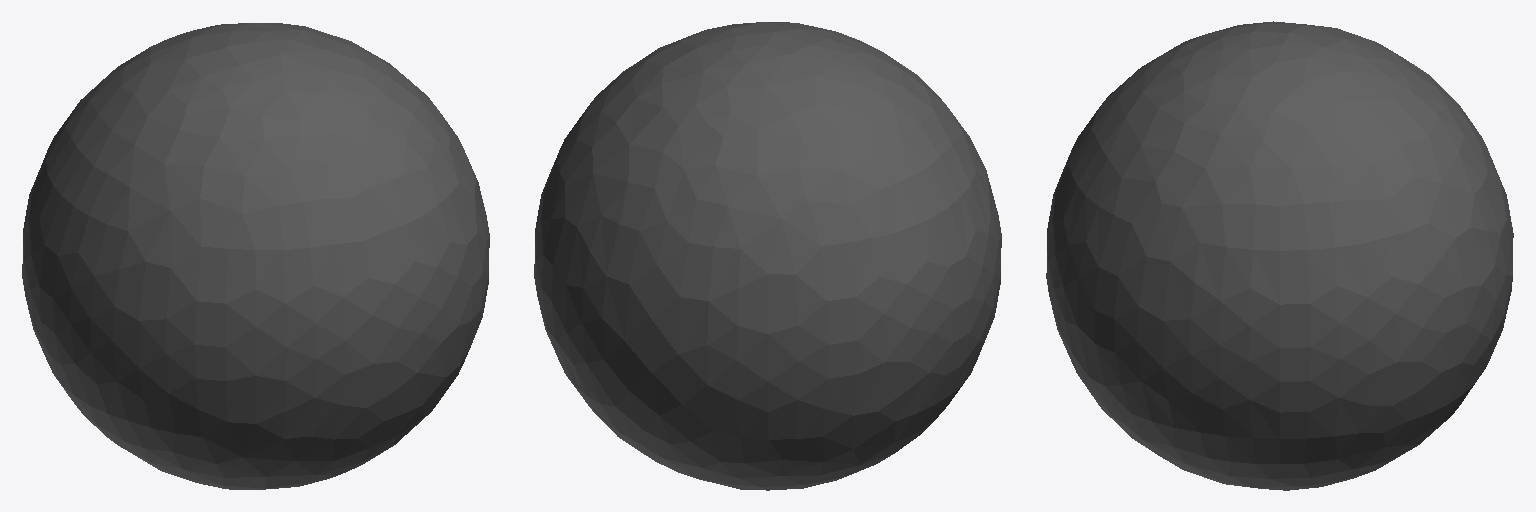
The model's file is sun.obj.
3 views of the same model, side by side, from view 1: azimuth 30°, elevation 25°; view 2: azimuth 150°, elevation 25°; view 3: azimuth 270°, elevation 25° (orthographic).
Parts seen in each view (by area): view 1: single_mesh_object; view 2: single_mesh_object; view 3: single_mesh_object.
Part boxes in pixels (x1,y1,x2,y2): single_mesh_object: (22,23,489,489); single_mesh_object: (534,22,1001,490); single_mesh_object: (1046,21,1513,490).
Size of the model in its own units: 2 by 2 by 1.99.